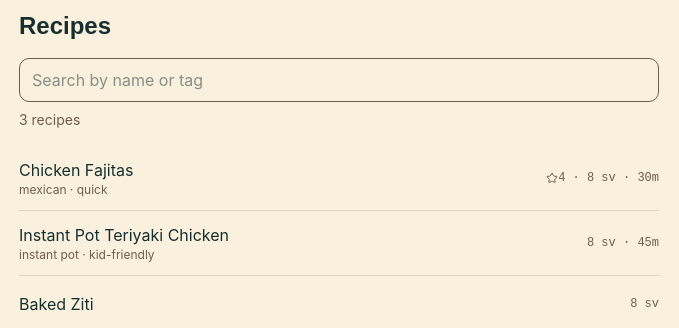
Scenario: the recipe library › searches tags too, so a tag is as good as a name
The width and height of the screenshot is (679, 328).
Type "instant pot" into the search field at (339, 80), box [19,58,659,102]
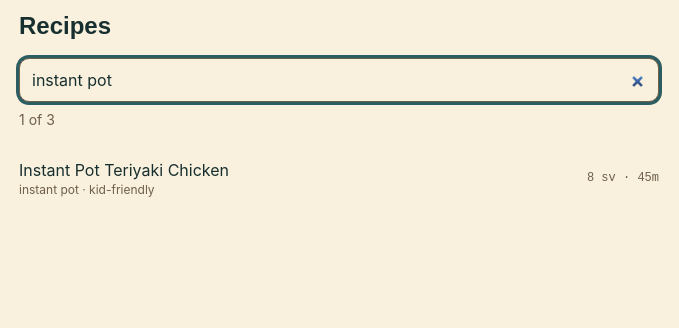
Result: the number of links is 1 at [19,160,659,197]
